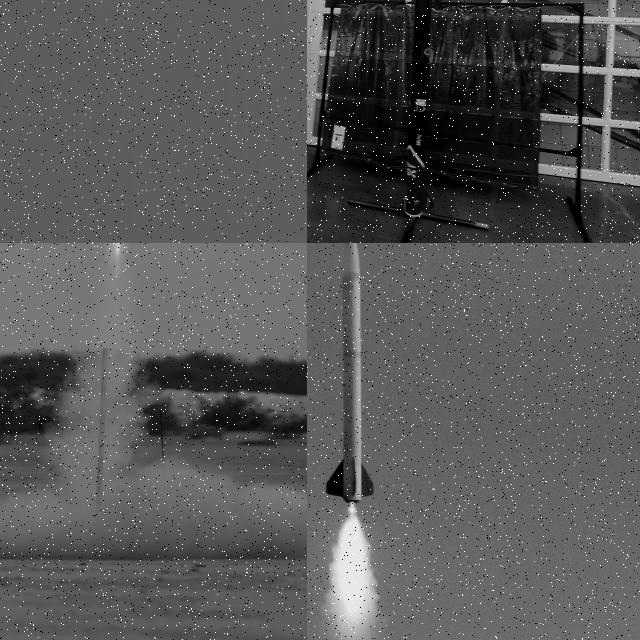Rocket: (324, 243, 376, 506), (399, 0, 435, 215)
